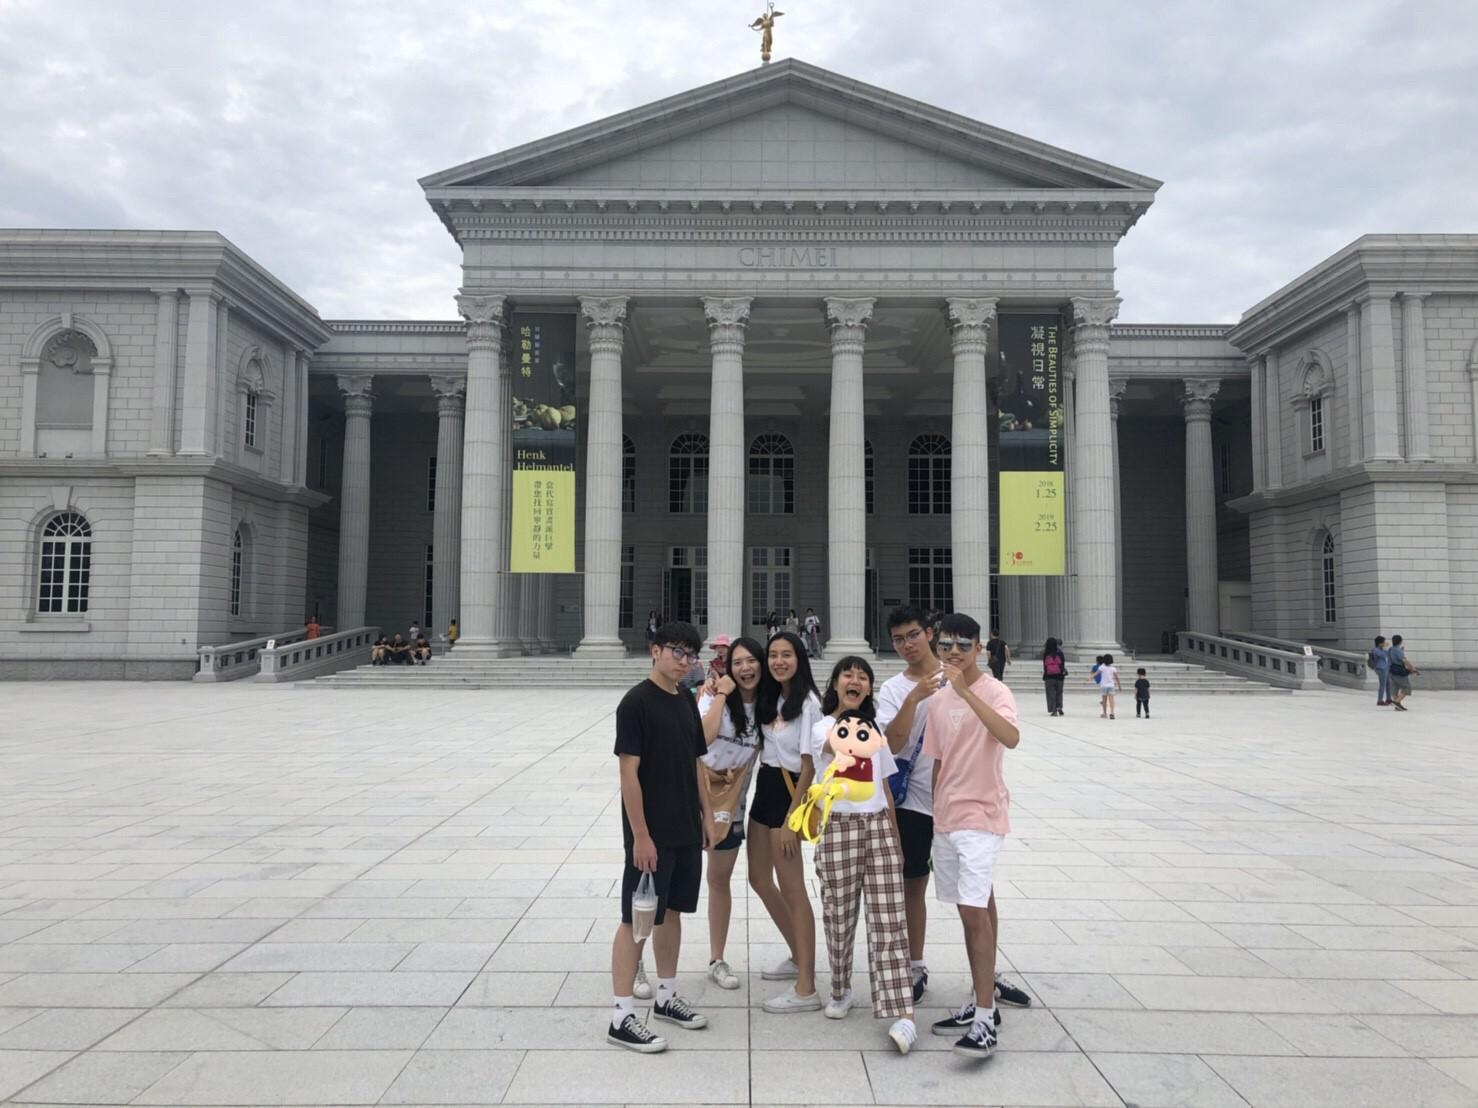people: (819, 661, 927, 1065), (615, 619, 711, 1050), (929, 615, 1011, 1065), (871, 607, 965, 1002), (758, 632, 827, 1019), (706, 636, 763, 992), (1381, 632, 1421, 713), (1038, 638, 1071, 715), (763, 607, 825, 644), (371, 634, 436, 665), (983, 623, 1015, 684), (1373, 630, 1396, 707), (1094, 655, 1117, 719), (1133, 663, 1154, 719), (444, 619, 458, 644)
